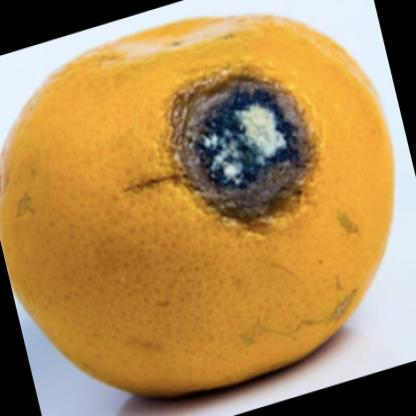rotten: (5, 18, 396, 395)
